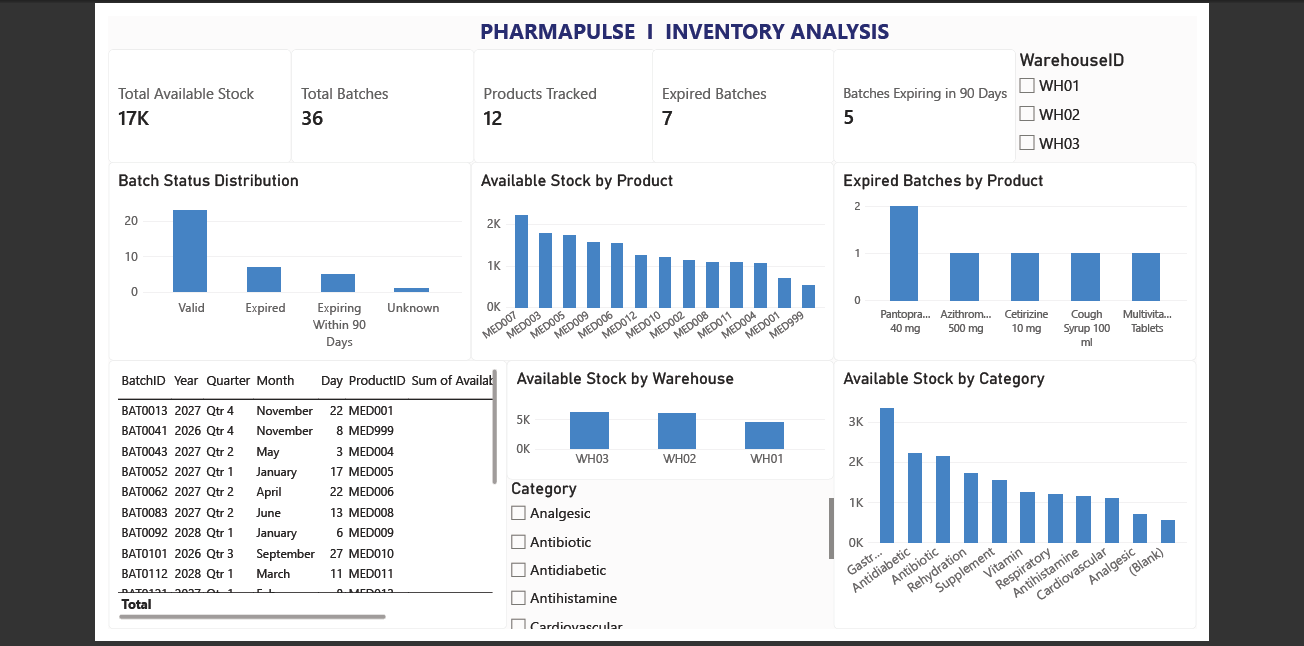

What the dashboard file says about the page in this screenshot:
{"tool":"powerbi","page":{"name":"Inventory Analysis","canvas":[1920,1080],"ordinal":1},"visuals":[{"type":"clusteredColumnChart","title":"Available Stock by Warehouse","fields":{"Category":["InventoryBatches_Cleaned.WarehouseID"],"Y":["Sum(InventoryBatches_Cleaned.AvailableQuantity)"]},"box":[703,607.2,577,210],"z":0},{"type":"tableEx","fields":{"Values":["InventoryBatches_Cleaned.BatchID","InventoryBatches_Cleaned.ExpiryDate.Variation.Date Hierarchy.Year","InventoryBatches_Cleaned.ExpiryDate.Variation.Date Hierarchy.Quarter","InventoryBatches_Cleaned.ExpiryDate.Variation.Date Hierarchy.Month","InventoryBatches_Cleaned.ExpiryDate.Variation.Date Hierarchy.Day","InventoryBatches_Cleaned.ProductID","Sum(InventoryBatches_Cleaned.AvailableQuantity)","InventoryBatches_Cleaned.WarehouseID"]},"box":[0,607.2,703,473.7],"z":1000},{"type":"clusteredColumnChart","title":"Available Stock by Product","fields":{"Category":["InventoryBatches_Cleaned.ProductID"],"Y":["Sum(InventoryBatches_Cleaned.AvailableQuantity)"]},"box":[640,257,640,350],"z":4000},{"type":"cardVisual","fields":{"Data":["Sum(InventoryBatches_Cleaned.AvailableQuantity)"]},"box":[0,58,322,200],"z":5000},{"type":"cardVisual","fields":{"Data":["CountNonNull(InventoryBatches_Cleaned.BatchID)"]},"box":[322.5,58,322,200],"z":6000},{"type":"cardVisual","fields":{"Data":["Count(Products_Cleaned.ProductID)"]},"box":[645,58,321,200],"z":7000},{"type":"cardVisual","fields":{"Data":["Calendar_Cleaned.Expired Batches"]},"box":[960,58,321,200],"z":10000},{"type":"cardVisual","fields":{"Data":["Calendar_Cleaned.Expiring Within 90 Days"]},"box":[1280,58,321,200],"z":11000},{"type":"clusteredColumnChart","title":"Expired Batches by Product","fields":{"Category":["Products_Cleaned.ProductName"],"Y":["Calendar_Cleaned.Expired Batches"]},"box":[1280,257,640,350],"z":13000},{"type":"slicer","fields":{"Values":["InventoryBatches_Cleaned.WarehouseID"]},"box":[1600,58,321,200],"z":14000},{"type":"clusteredColumnChart","title":"Available Stock by Category","fields":{"Category":["Products_Cleaned.Category"],"Y":["Sum(InventoryBatches_Cleaned.AvailableQuantity)"]},"box":[1280,607.2,640,473.7],"z":15000},{"type":"slicer","fields":{"Values":["Products_Cleaned.Category"]},"box":[703,816.4,577,264.6],"z":16000},{"type":"clusteredColumnChart","title":"Batch Status Distribution","fields":{"Category":["InventoryBatches_Cleaned.Expiry Status"],"Y":["CountNonNull(InventoryBatches_Cleaned.BatchID)"]},"box":[0,257,640,350],"z":17000},{"type":"textbox","box":[0,0,1920,58],"z":18000}]}

Visuals, with their boxes on the page's 1920x1080 design canvas (x1, y1, x2, y2). These are canvas units, not pixel positions in the 1304x646 screenshot, which may show the page scaled, cropped or inside an application window:
"Available Stock by Warehouse" clusteredColumnChart: BBox(703, 607, 1280, 817)
tableEx - InventoryBatches_Cleaned.BatchID x InventoryBatches_Cleaned.ExpiryDate.Variation.Date Hierarchy.Year: BBox(0, 607, 703, 1081)
"Available Stock by Product" clusteredColumnChart: BBox(640, 257, 1280, 607)
cardVisual - Sum(InventoryBatches_Cleaned.AvailableQuantity): BBox(0, 58, 322, 258)
cardVisual - CountNonNull(InventoryBatches_Cleaned.BatchID): BBox(322, 58, 644, 258)
cardVisual - Count(Products_Cleaned.ProductID): BBox(645, 58, 966, 258)
cardVisual - Calendar_Cleaned.Expired Batches: BBox(960, 58, 1281, 258)
cardVisual - Calendar_Cleaned.Expiring Within 90 Days: BBox(1280, 58, 1601, 258)
"Expired Batches by Product" clusteredColumnChart: BBox(1280, 257, 1920, 607)
slicer - InventoryBatches_Cleaned.WarehouseID: BBox(1600, 58, 1921, 258)
"Available Stock by Category" clusteredColumnChart: BBox(1280, 607, 1920, 1081)
slicer - Products_Cleaned.Category: BBox(703, 816, 1280, 1081)
"Batch Status Distribution" clusteredColumnChart: BBox(0, 257, 640, 607)
textbox: BBox(0, 0, 1920, 58)
